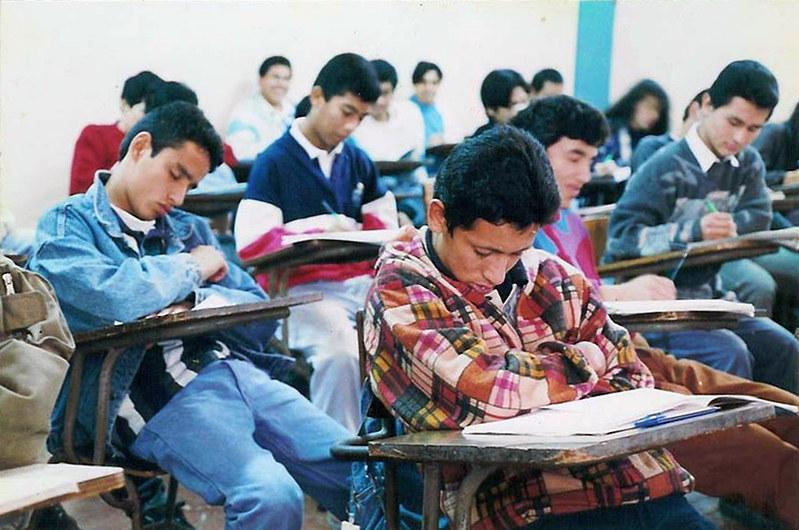sleep: (351, 117, 666, 436), (41, 103, 266, 312)
study: (611, 55, 779, 247), (232, 53, 396, 239)
